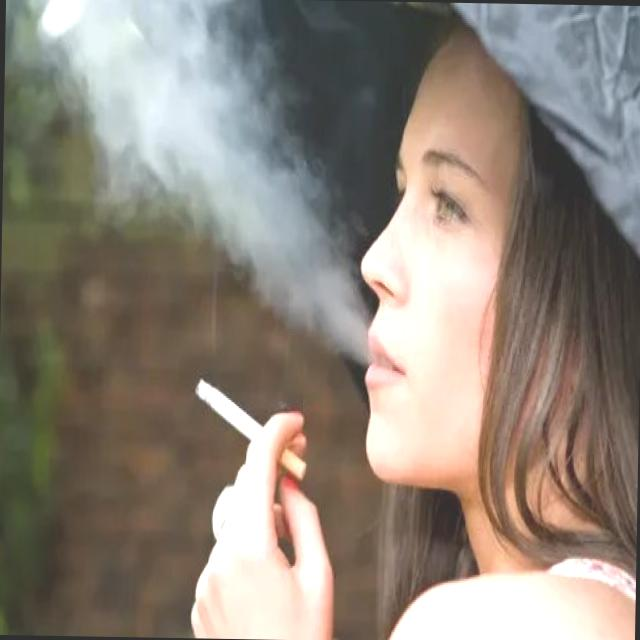smoke: (189, 369, 311, 484)
